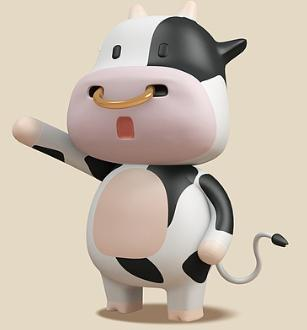cow: (11, 0, 289, 322)
